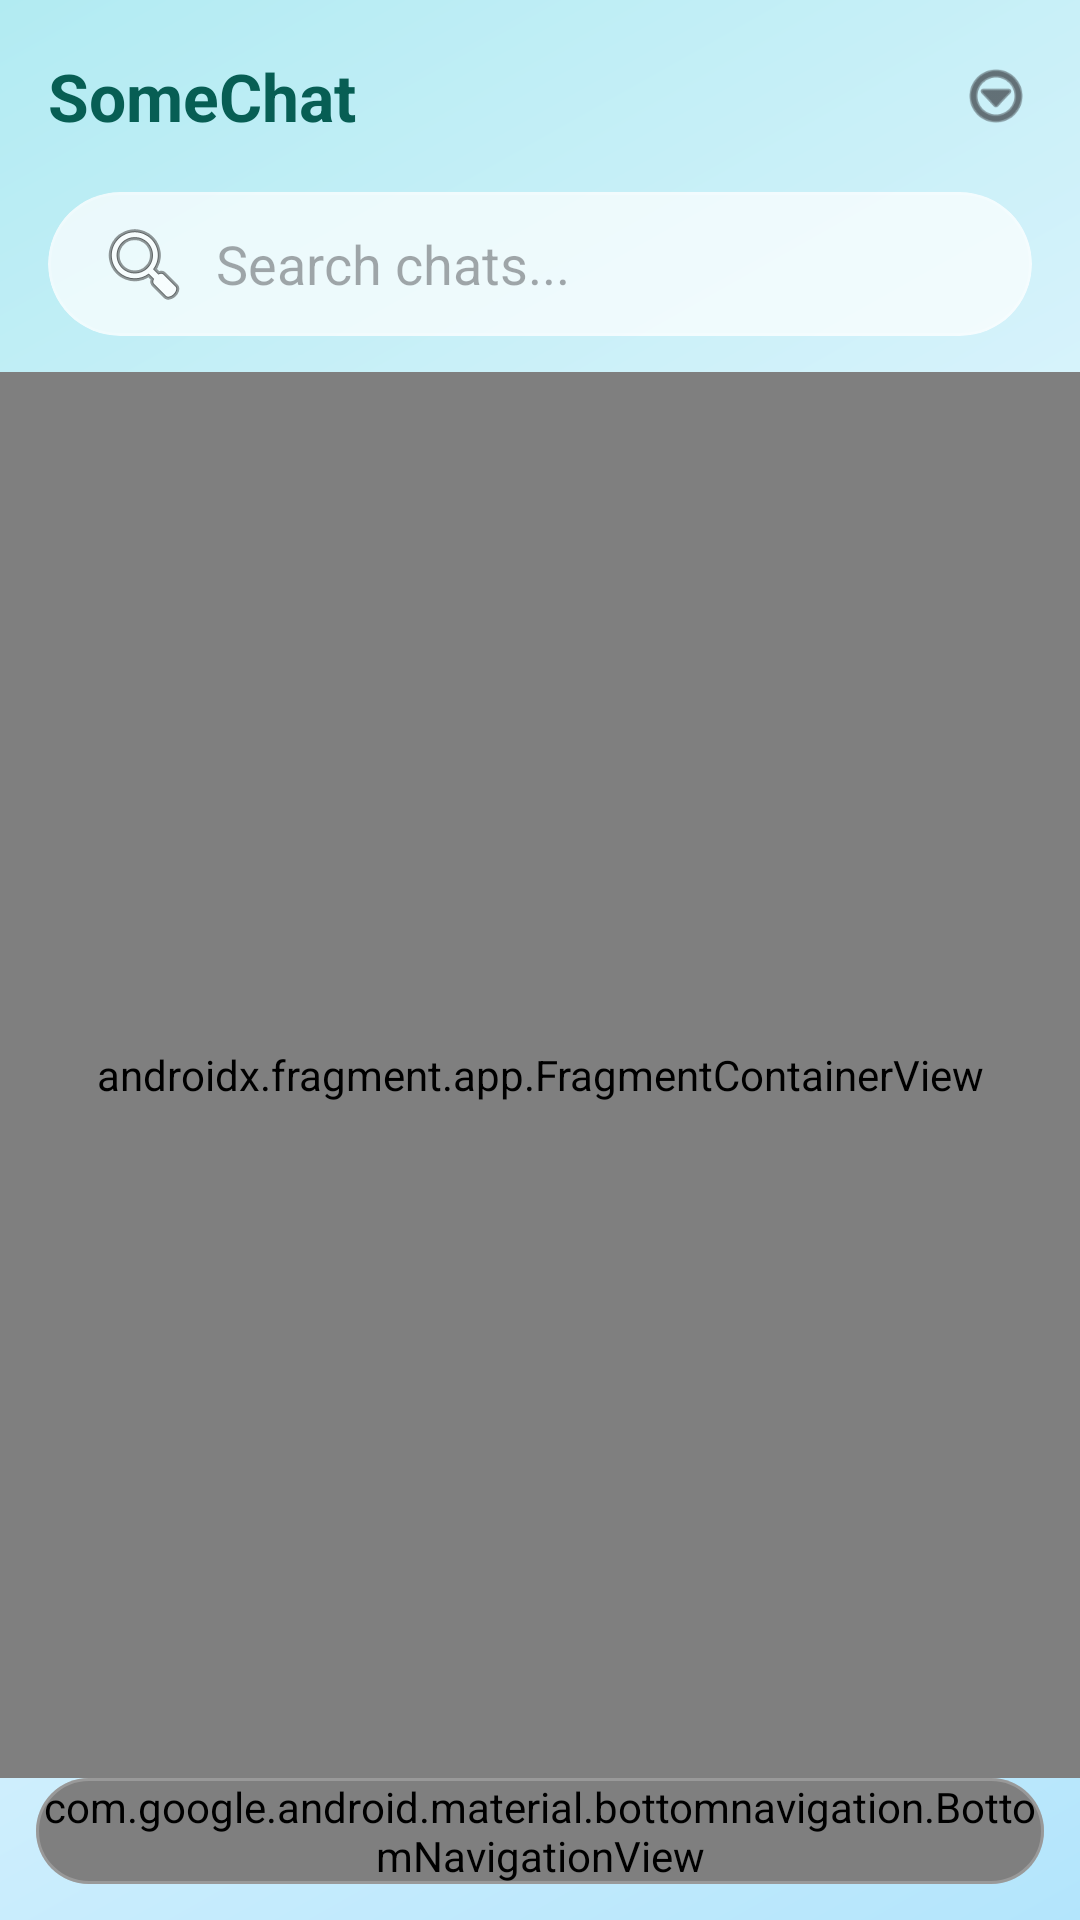

Screen size 1080w x 1920h. Icon name, then its center in pixels as (x=x, y=y):
More options: (x=996, y=96)
